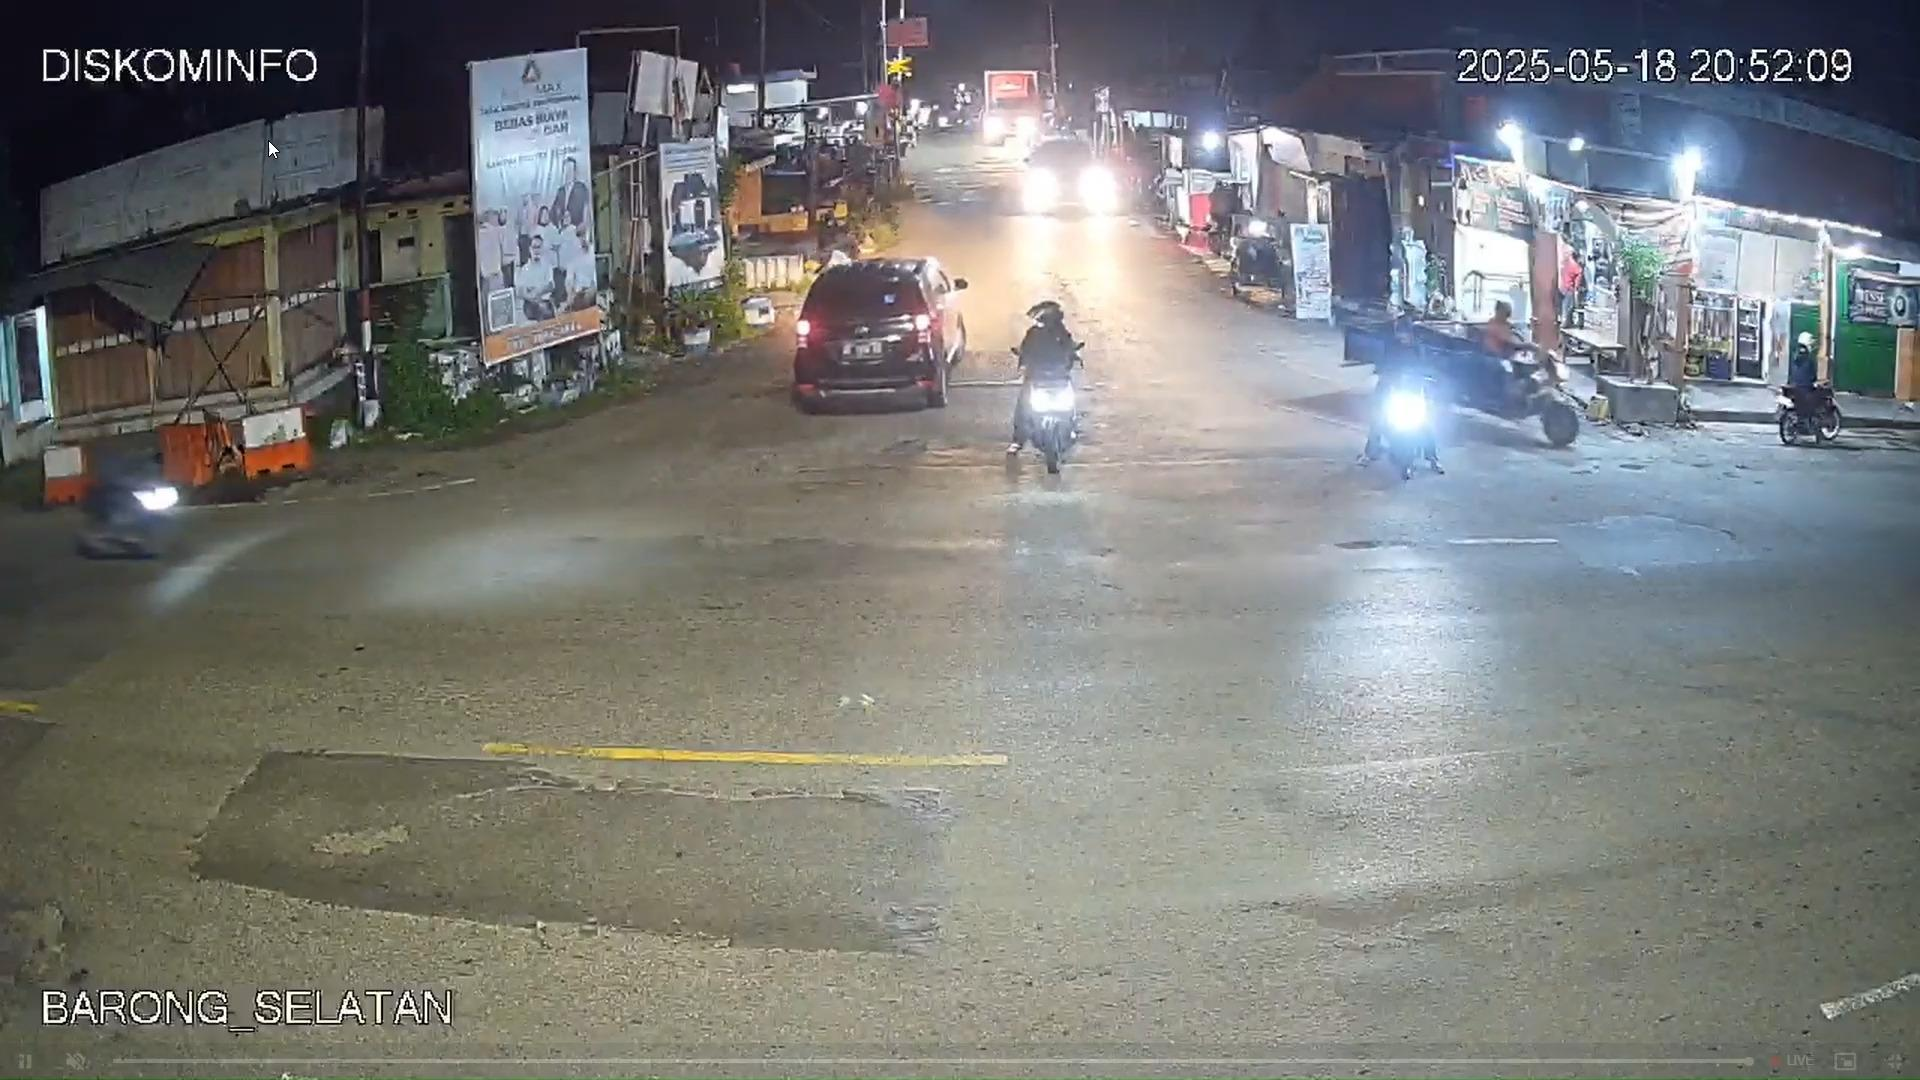Motor: (1009, 298, 1092, 469), (1776, 376, 1844, 446)
mobil: (787, 252, 961, 413), (1022, 137, 1106, 216)
